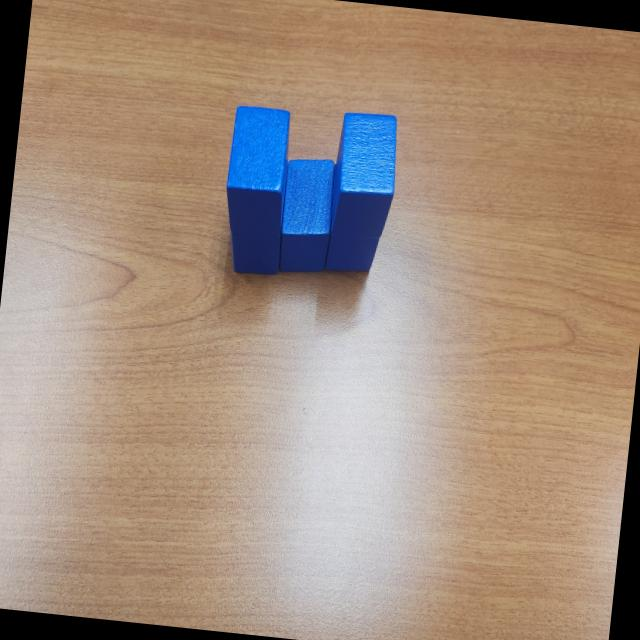blue: (326, 111, 401, 241), (222, 104, 294, 238), (276, 154, 340, 278), (322, 162, 386, 277), (226, 222, 283, 280)
